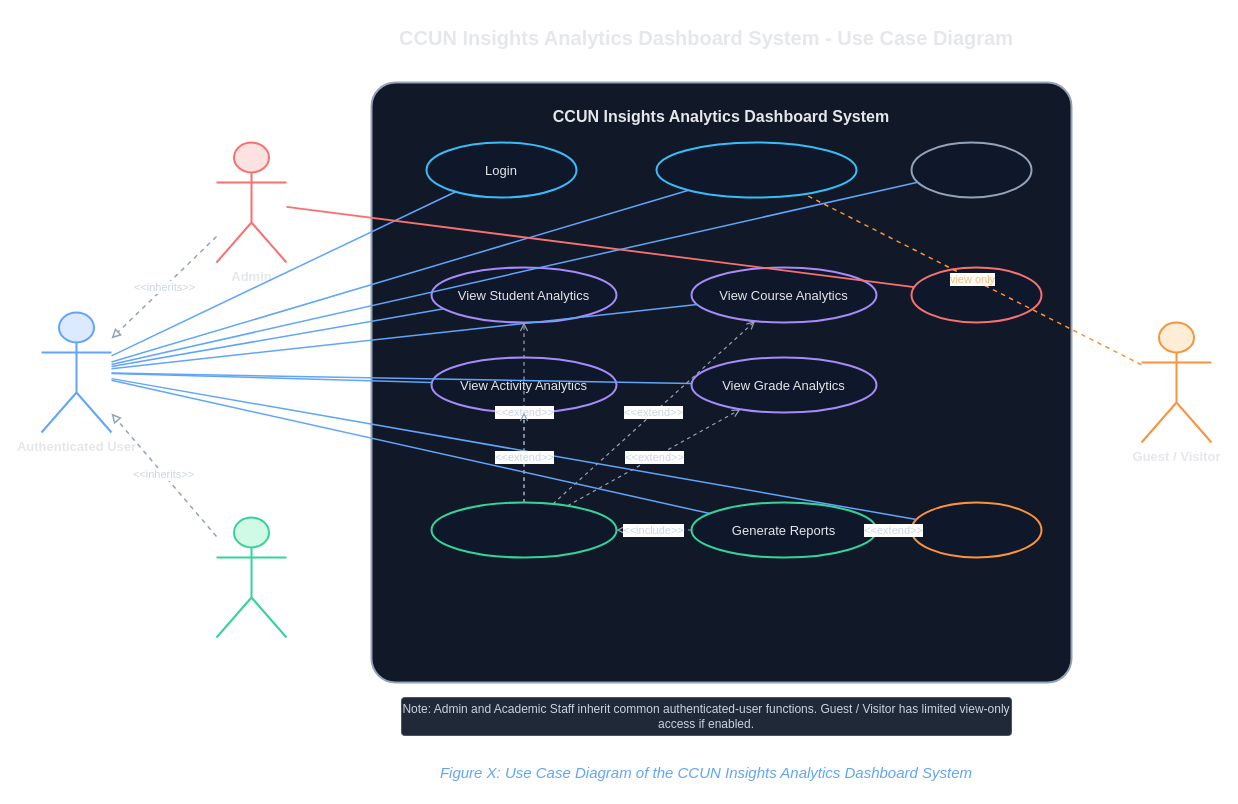
This 1238x804 diagram has some shape labels left out. The centre of each missing label's shape, as x and y in pixels:
Academic Staff: the point at 251,577
Export Data: the point at 976,529
Logout: the point at 971,169
Manage Users: the point at 976,294
Search and Filter Data: the point at 523,529
View Dashboard Overview: the point at 756,169
